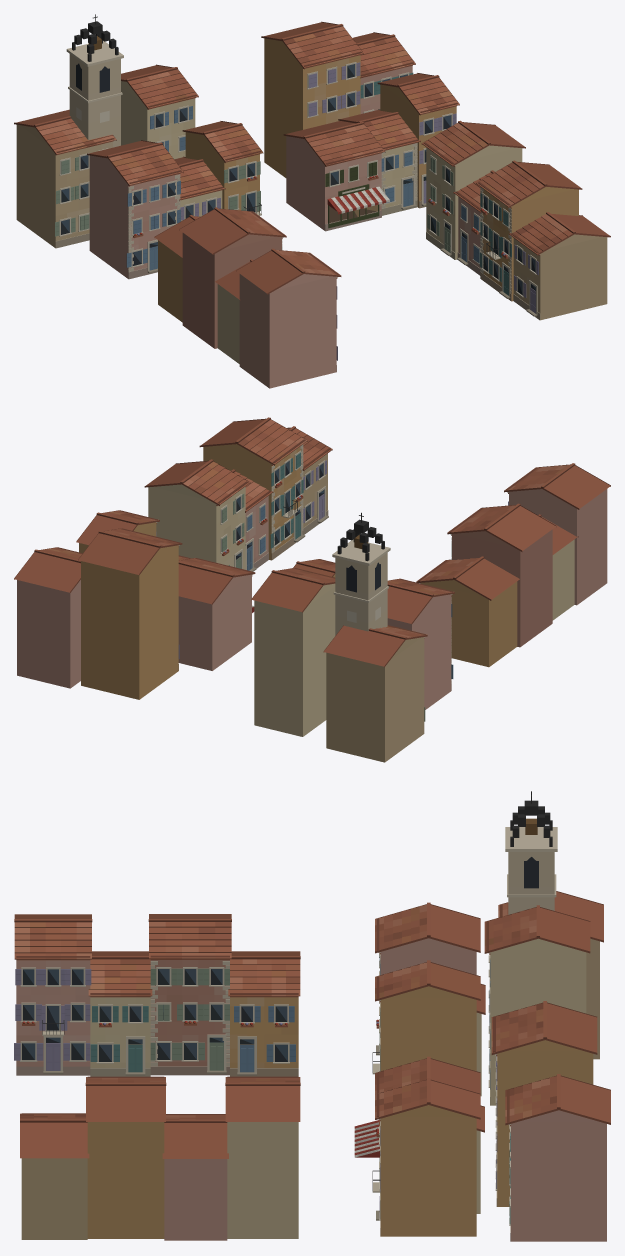
Rendered from houses.glb.
3 views of the same model, one above another, from view 1: azimuth 30°, elevation 25°; view 2: azimuth 150°, elevation 25°; view 3: azimuth 270°, elevation 25° (orthographic). The views are drawn at different scales.
Visible parts, largest first — view 1: houses_far, houses_back, houses_right, houses_left; view 2: houses_back, houses_left, houses_right, houses_far; view 3: houses_back, houses_left, houses_right, houses_far.
Part boxes in pixels (x1,y1,x2,y2): houses_far: (87,73,459,279); houses_back: (14,14,415,248); houses_right: (421,120,610,320); houses_left: (154,207,341,388); houses_back: (14,512,427,762); houses_left: (416,463,610,667); houses_right: (144,417,332,571); houses_far: (76,510,454,709); houses_back: (484,791,610,1241); houses_left: (14,914,300,1076); houses_right: (20,1076,300,1240); houses_far: (354,902,485,1236).
Size of the model in its own units: 37.78 by 21.3 by 43.57.
